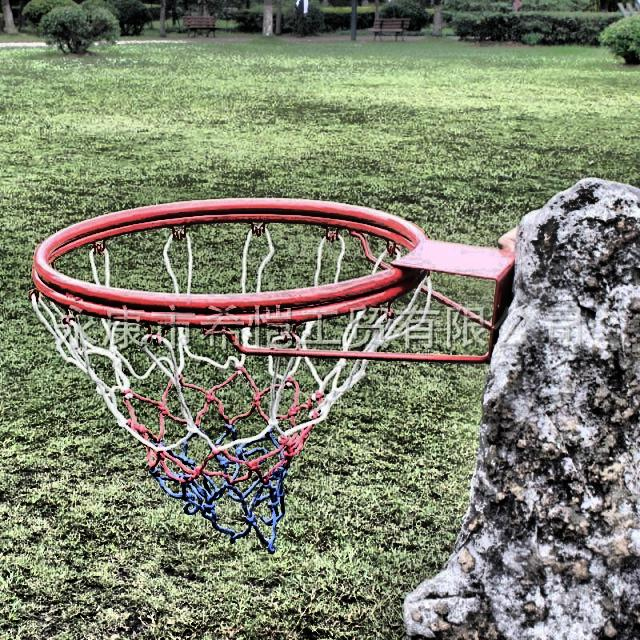rim: (30, 197, 429, 554)
